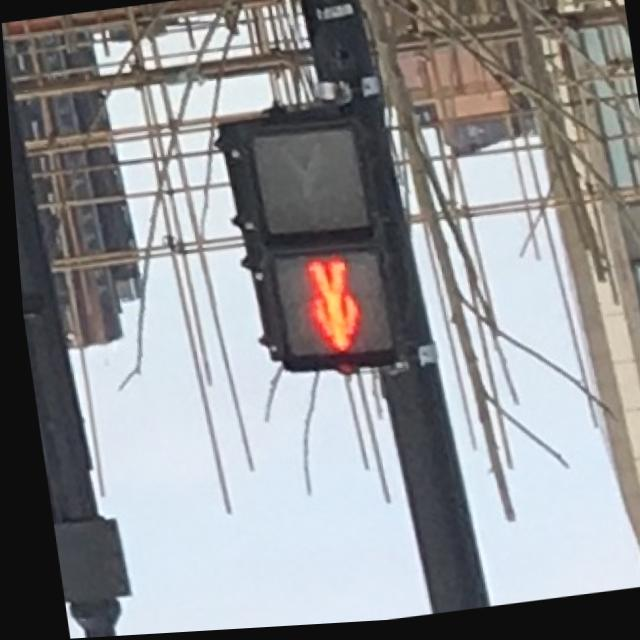red_light: (264, 250, 391, 376)
